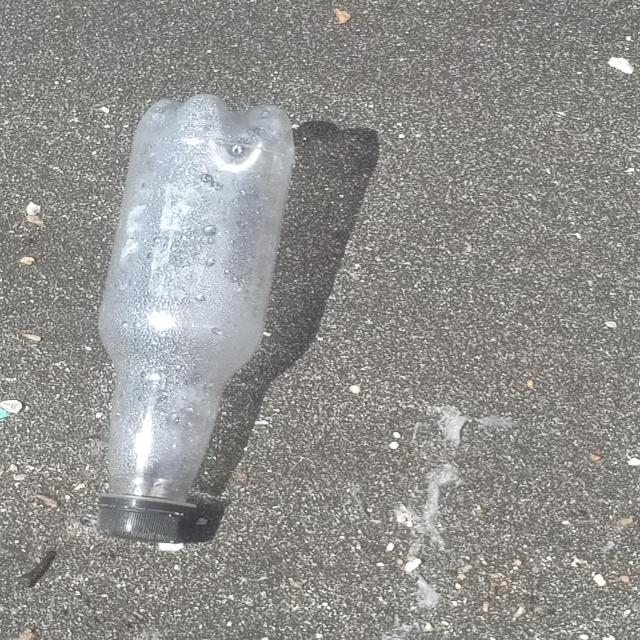plastic_waste: (96, 95, 298, 545)
